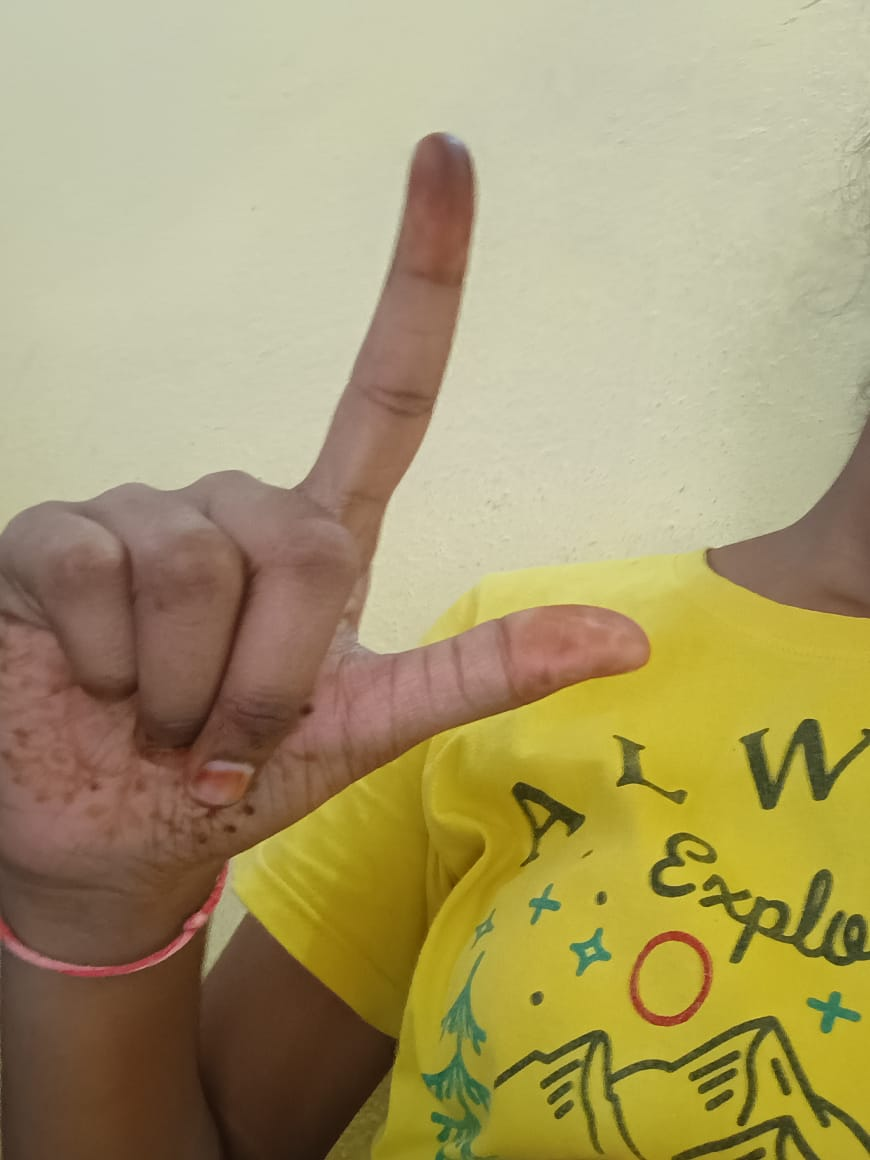L: (7, 132, 650, 882)
